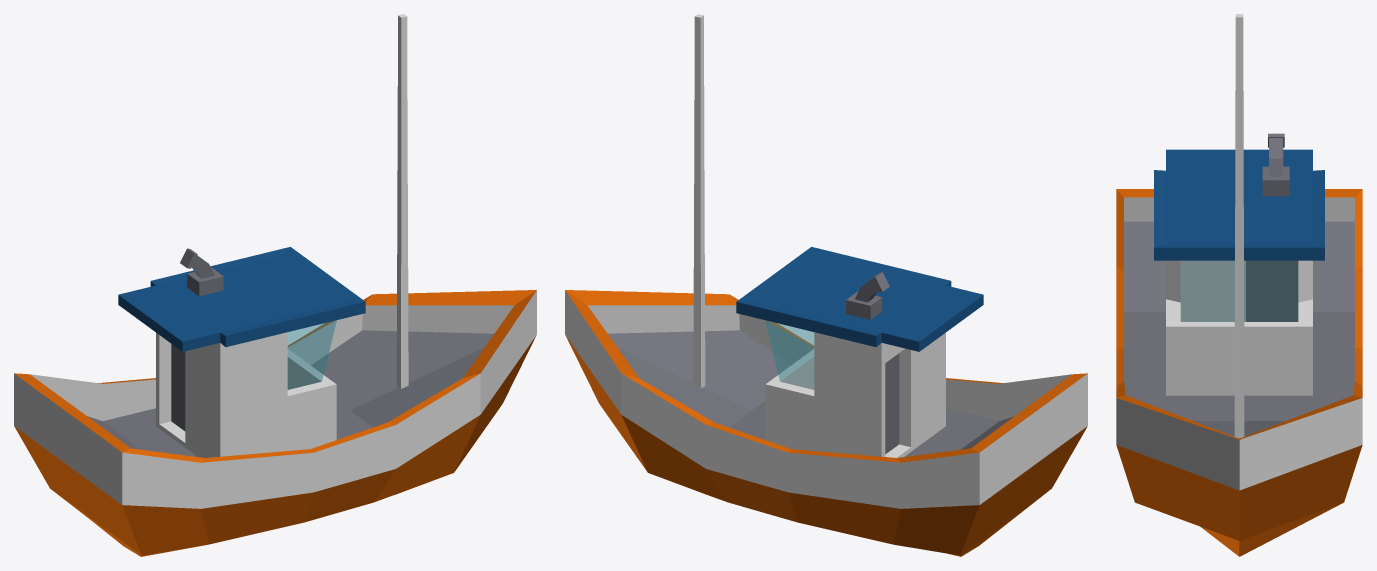
Rendered from boat1.fbx.
3 views of the same model, side by side, from view 1: azimuth 30°, elevation 25°; view 2: azimuth 150°, elevation 25°; view 3: azimuth 270°, elevation 25° (orthographic). The views are drawn at different scales.
Visible parts, largest first — view 1: bateau variation; view 2: bateau variation; view 3: bateau variation.
Boxes of the visible parts, x1,y1,x2,y2 form: bateau variation: [14, 14, 536, 556]; bateau variation: [565, 14, 1087, 556]; bateau variation: [1116, 14, 1362, 556].
Bounding box in the file's own units: 211 × 200 × 84.47.
